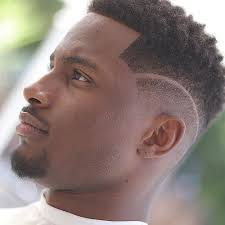black_male: (11, 1, 199, 204)
